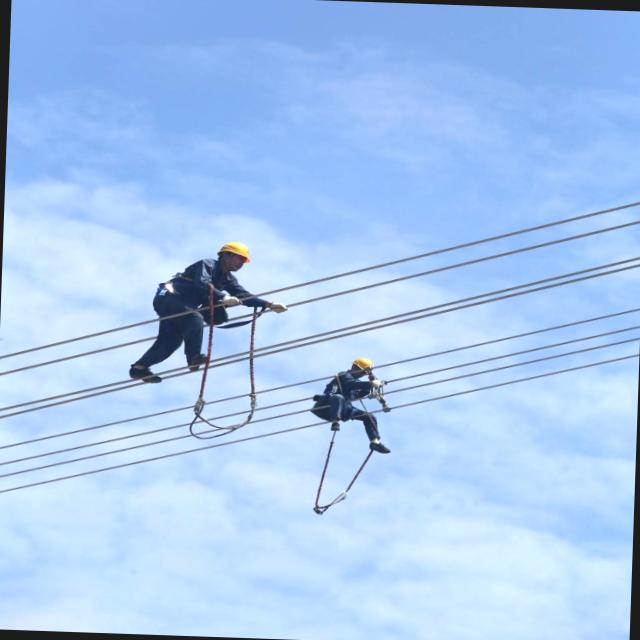helmet: (212, 242, 255, 268), (343, 354, 378, 375)
no-vest: (168, 258, 226, 304), (328, 368, 372, 404)
